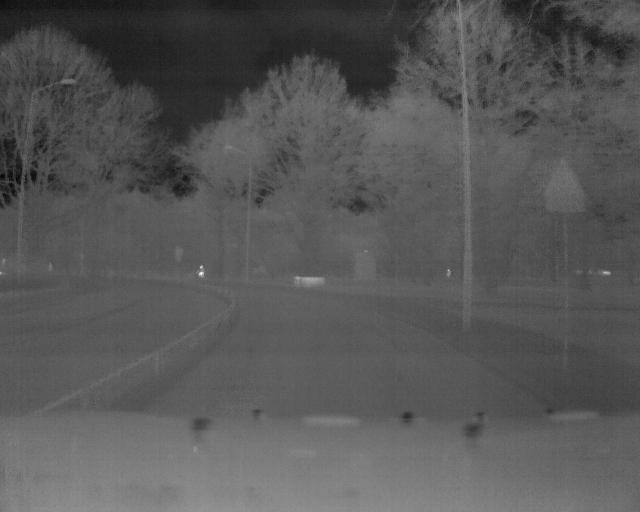person: (195, 262, 207, 280)
